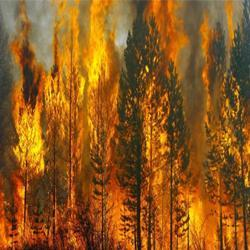fire: (15, 113, 43, 168), (191, 201, 218, 248), (92, 14, 107, 81)
